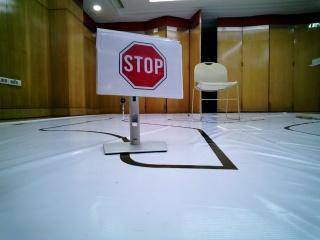stop: (111, 36, 182, 91)
